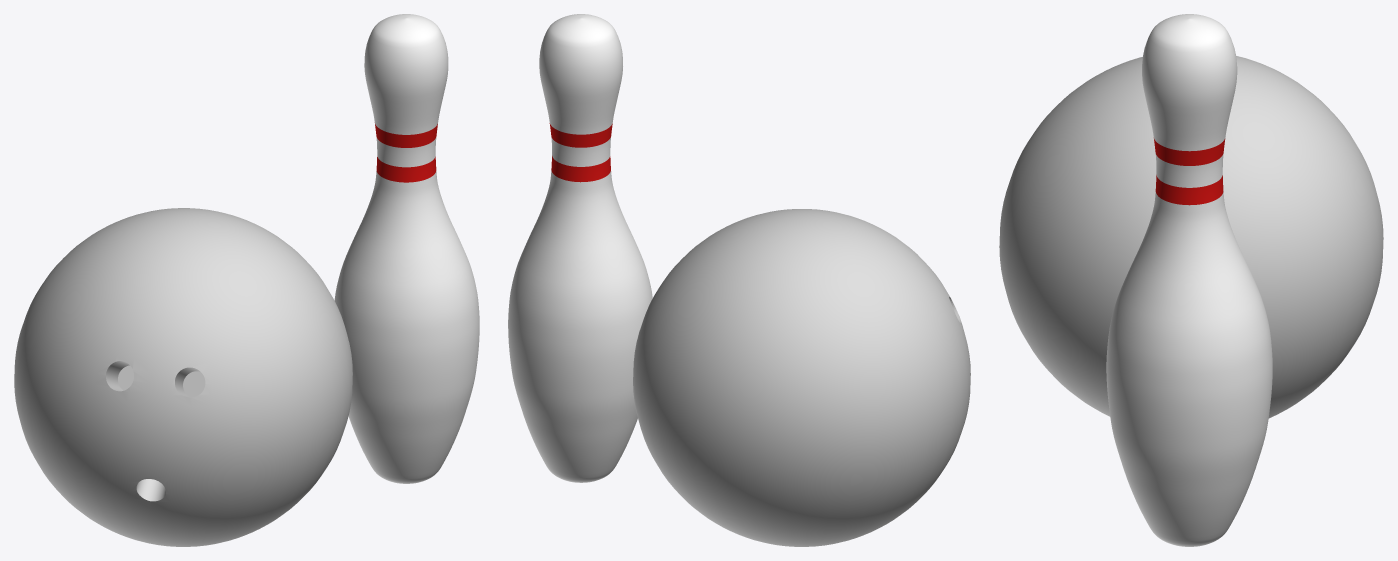
File: pin.fbx
3 views of the same model, side by side, from view 1: azimuth 30°, elevation 25°; view 2: azimuth 150°, elevation 25°; view 3: azimuth 270°, elevation 25° (orthographic). The views are drawn at different scales.
Parts seen in each view (by area): view 1: Sphere, Cylinder.002; view 2: Sphere, Cylinder.002; view 3: Sphere, Cylinder.002.
Boxes of the visible parts, left/top/right/bottom form: Sphere: left=14, top=208, right=352, bottom=546; Cylinder.002: left=334, top=14, right=479, bottom=483; Sphere: left=633, top=209, right=970, bottom=546; Cylinder.002: left=508, top=14, right=652, bottom=482; Sphere: left=999, top=56, right=1383, bottom=418; Cylinder.002: left=1106, top=14, right=1272, bottom=546.
Bounding box in the file's own units: 76.98 × 78.19 × 52.24.
